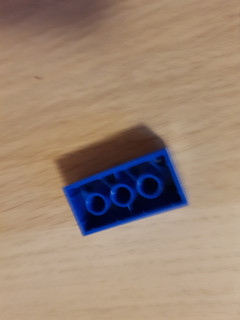2x4 blue: (60, 143, 192, 239)
